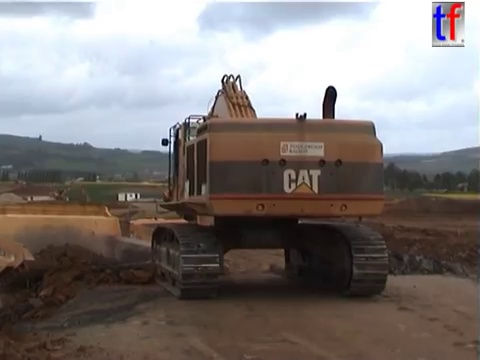excavator: (146, 71, 392, 299), (49, 182, 93, 206)
truck: (1, 198, 185, 325), (114, 215, 224, 278)
